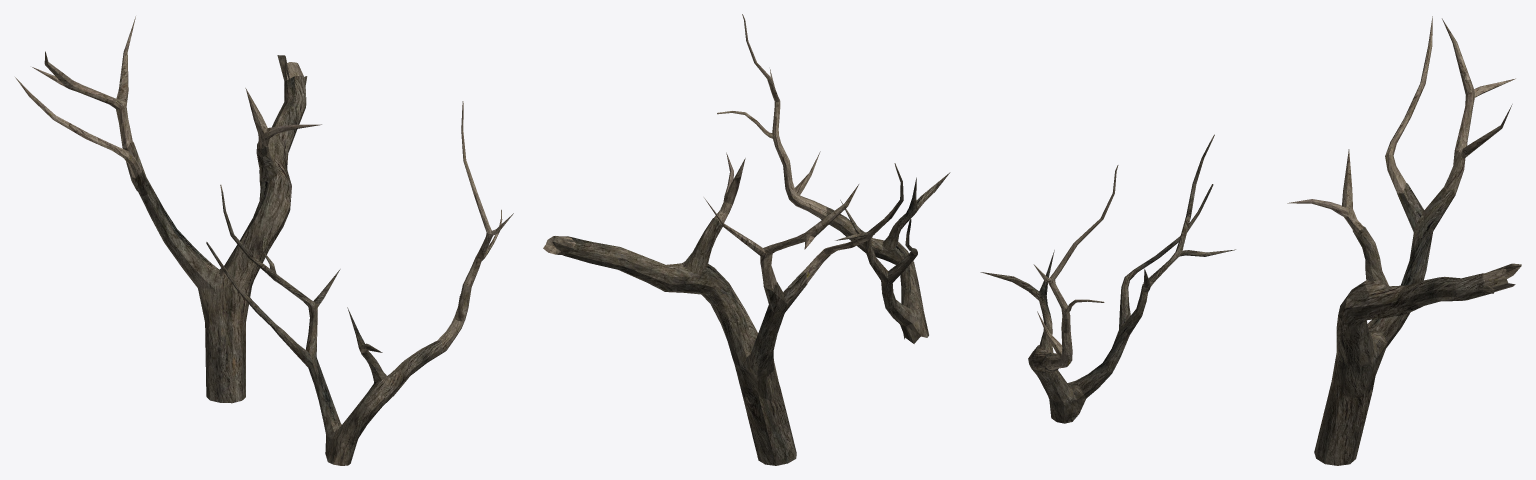
The model's file is 1_TREE_06_4-transformed.glb.
3 renders of one model, left to right at view 1: azimuth 30°, elevation 25°; view 2: azimuth 150°, elevation 25°; view 3: azimuth 270°, elevation 25°, orthographic. The views are drawn at different scales.
Parts seen in each view (by area): view 1: default; view 2: default; view 3: default.
Part boxes in pixels (x1,y1,x2,y2): default: (15,16,513,465); default: (543,14,950,465); default: (980,16,1521,465).
Size of the model in its own units: 7.34 by 7.22 by 9.56.
Materials: 2 (2 with a texture image).
